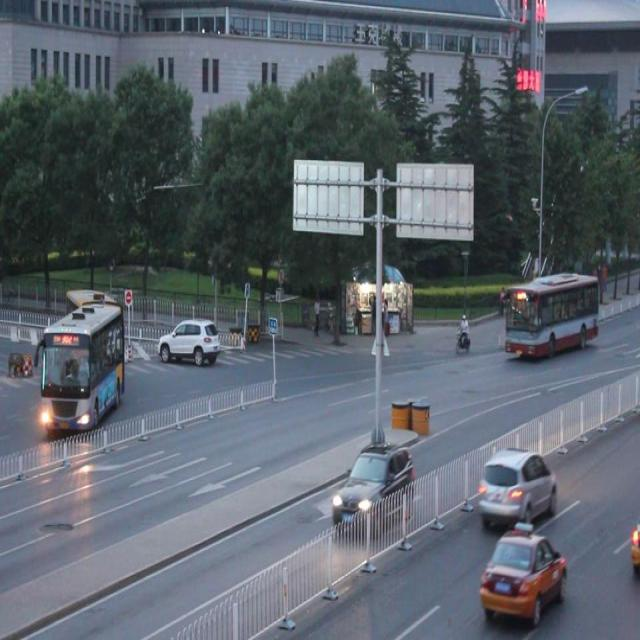car: (474, 521, 568, 627), (327, 443, 415, 530), (476, 444, 557, 524), (157, 314, 220, 366)
van: (42, 286, 125, 430), (502, 276, 599, 358)
